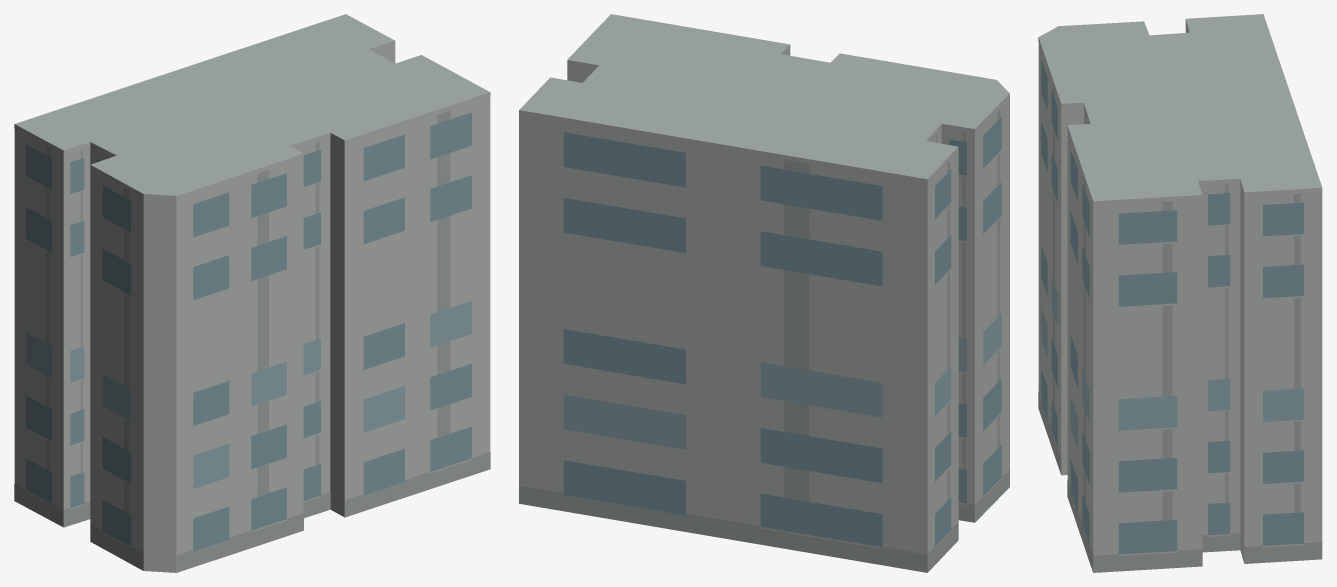
Rendered from survey-upis-32574614.glb.
The picture shows the model from 3 angles, left to right: view 1: azimuth 30°, elevation 25°; view 2: azimuth 150°, elevation 25°; view 3: azimuth 270°, elevation 25°; orthographic projection. The views are drawn at different scales.
Parts seen in each view (by area): view 1: survey-upis-32574614.tmp; view 2: survey-upis-32574614.tmp; view 3: survey-upis-32574614.tmp.
Part boxes in pixels (x1=…): survey-upis-32574614.tmp: x1=14, y1=14, x2=490, y2=572; survey-upis-32574614.tmp: x1=519, y1=14, x2=1009, y2=572; survey-upis-32574614.tmp: x1=1038, y1=14, x2=1322, y2=572.
Bounding box in the file's own units: 20.99 × 19.4 × 13.44.
